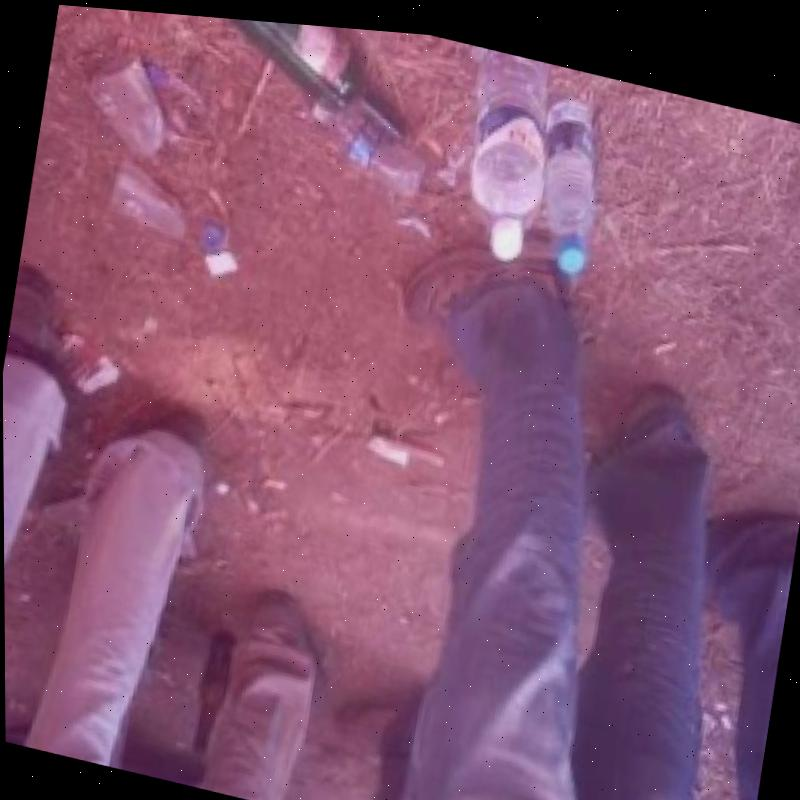botella: (451, 37, 558, 259), (528, 82, 616, 269)
